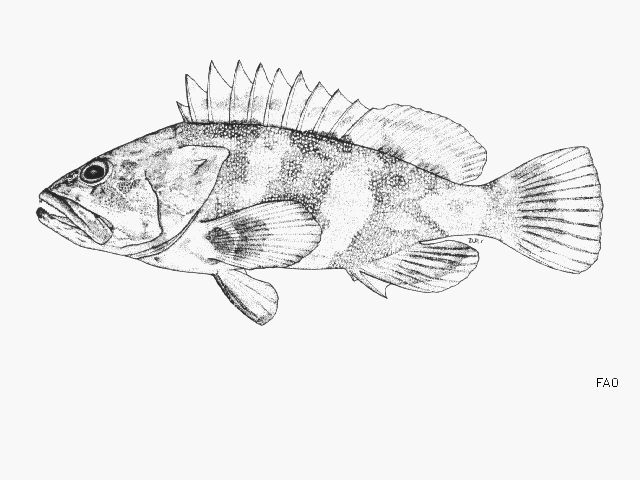fish: (36, 57, 605, 326)
